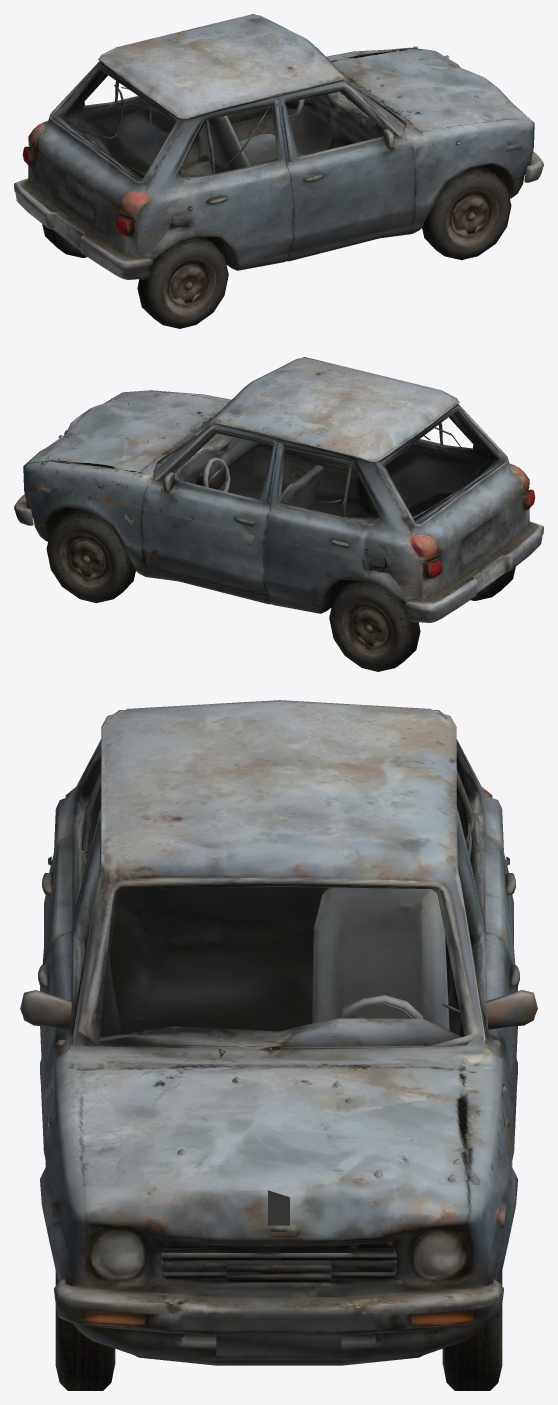
File: wrecked_sedan_01.fbx
3 views of the same model, one above another, from view 1: azimuth 30°, elevation 25°; view 2: azimuth 150°, elevation 25°; view 3: azimuth 270°, elevation 25° (orthographic). The views are drawn at different scales.
Visible parts, largest first — view 1: tripo_node_f0f9c1d8; view 2: tripo_node_f0f9c1d8; view 3: tripo_node_f0f9c1d8.
Part boxes in pixels (<box>): tripo_node_f0f9c1d8: <box>14,14,543,328</box>; tripo_node_f0f9c1d8: <box>14,357,543,671</box>; tripo_node_f0f9c1d8: <box>20,700,537,1390</box>.
Bounding box in the file's own units: 0.9941 × 0.4579 × 0.5108.
Materials: 1 (1 with a texture image).
